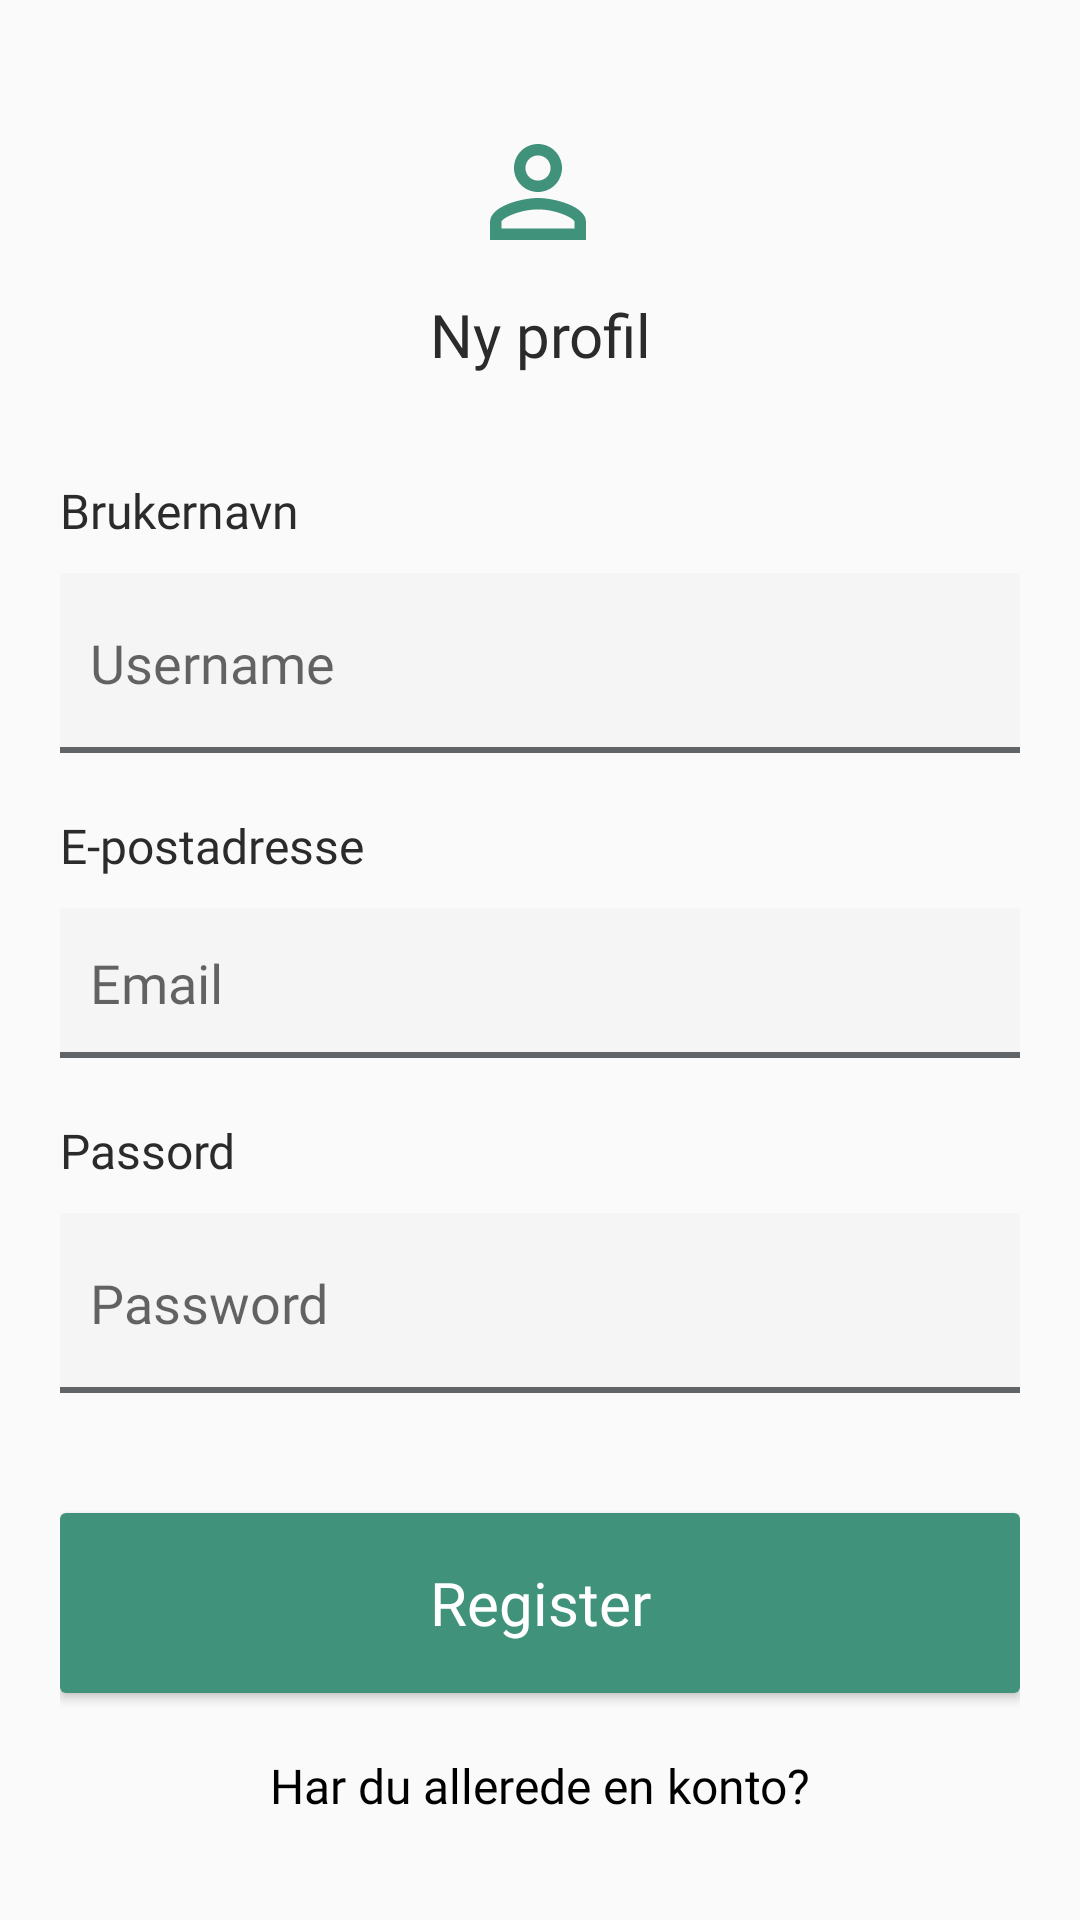

Where icons sit on this 1080x1920 app screen, as (x1, y1, x2, y2):
profile image: (490, 144, 586, 240)
